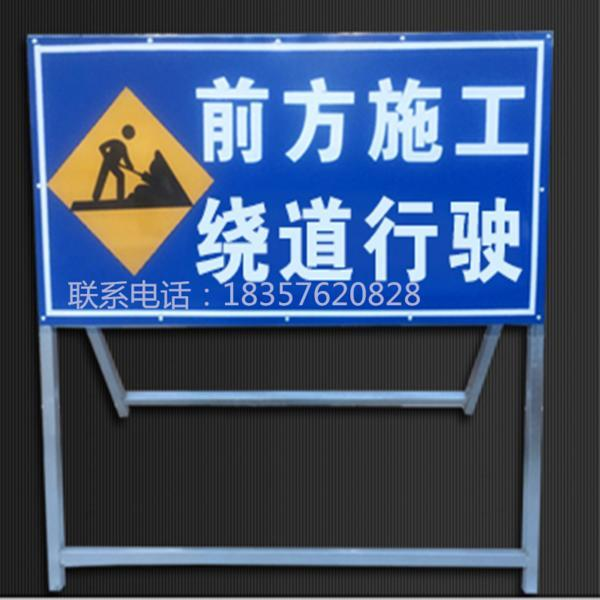sign: (31, 39, 543, 325)
